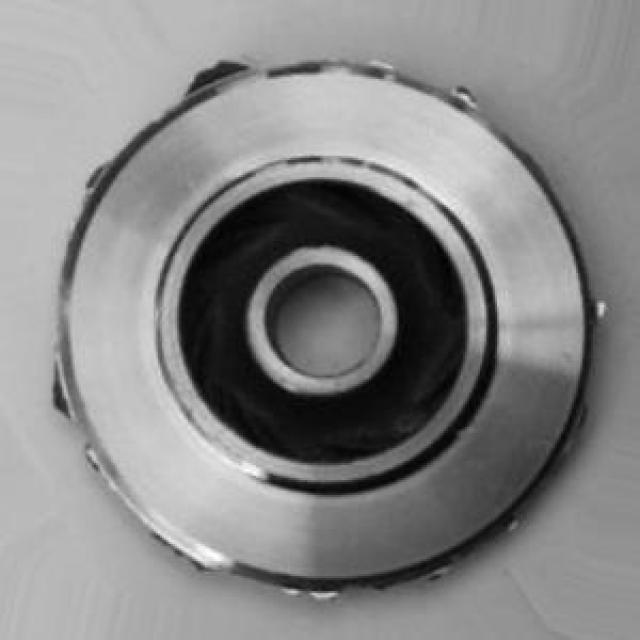Defect: (185, 56, 255, 87)
